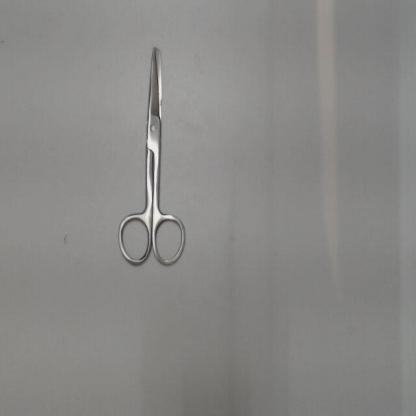Dressing Scissors: (108, 28, 196, 278)
